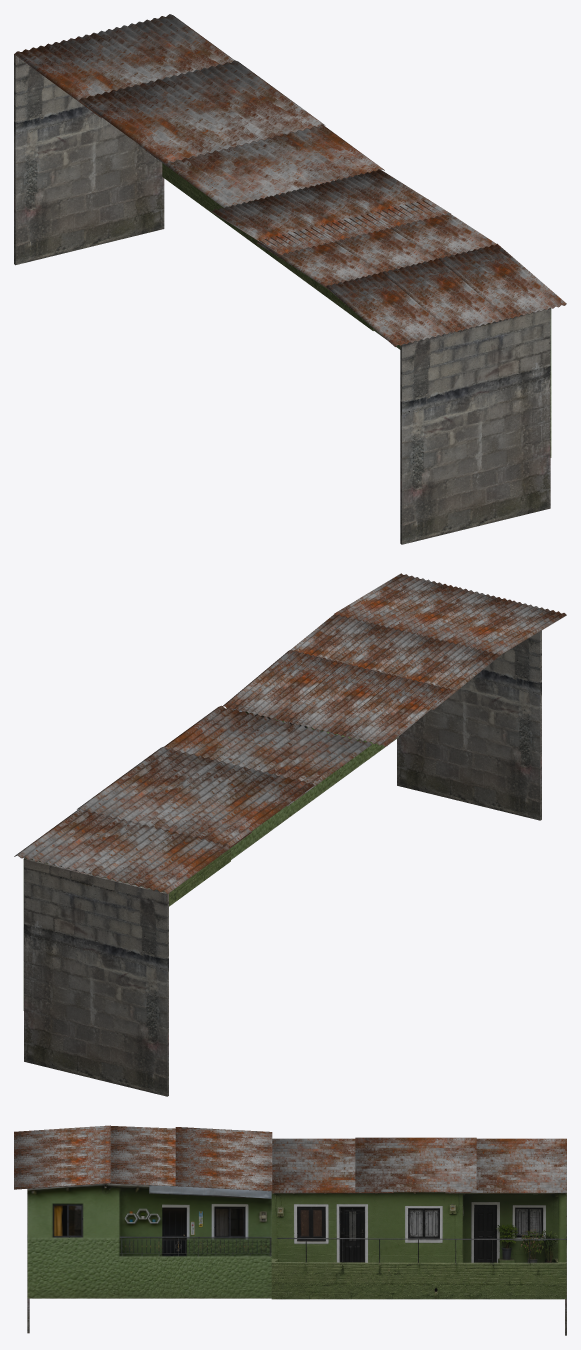
The model's file is casaA_izquierda_07.fbx.
3 views of the same model, one above another, from view 1: azimuth 30°, elevation 25°; view 2: azimuth 150°, elevation 25°; view 3: azimuth 270°, elevation 25° (orthographic). The views are drawn at different scales.
Parts seen in each view (by area): view 1: CorrigatedPanel-2x2.010, CorrigatedPanel-1x2.001, casaA_izquierda_05B.006, casaA_izquierda_05B.007, csaA_zquierda_07B.001; view 2: CorrigatedPanel-2x2.010, CorrigatedPanel-1x2.001, casaA_izquierda_05B.007, casaA_izquierda_05B.006, casaA_izquierda_07.001, csaA_zquierda_07B.001; view 3: csaA_zquierda_07B.001, casaA_izquierda_07.001, CorrigatedPanel-2x2.010, CorrigatedPanel-1x2.001.
Boxes of the visible parts, box(x1,y1,x2,y2) form: CorrigatedPanel-2x2.010: box(14, 14, 384, 208); CorrigatedPanel-1x2.001: box(210, 169, 566, 346); casaA_izquierda_05B.006: box(400, 308, 550, 544); casaA_izquierda_05B.007: box(14, 54, 164, 265); csaA_zquierda_07B.001: box(162, 163, 373, 330); CorrigatedPanel-2x2.010: box(14, 705, 371, 893); CorrigatedPanel-1x2.001: box(223, 573, 566, 746); casaA_izquierda_05B.007: box(24, 859, 168, 1096); casaA_izquierda_05B.006: box(397, 630, 541, 820); casaA_izquierda_07.001: box(230, 708, 398, 859); csaA_zquierda_07B.001: box(23, 848, 230, 1010); csaA_zquierda_07B.001: box(271, 1191, 566, 1299); casaA_izquierda_07.001: box(27, 1183, 271, 1298); CorrigatedPanel-2x2.010: box(272, 1137, 566, 1193); CorrigatedPanel-1x2.001: box(14, 1125, 272, 1191).
Size of the model in its own units: 424 by 514 by 1662.
